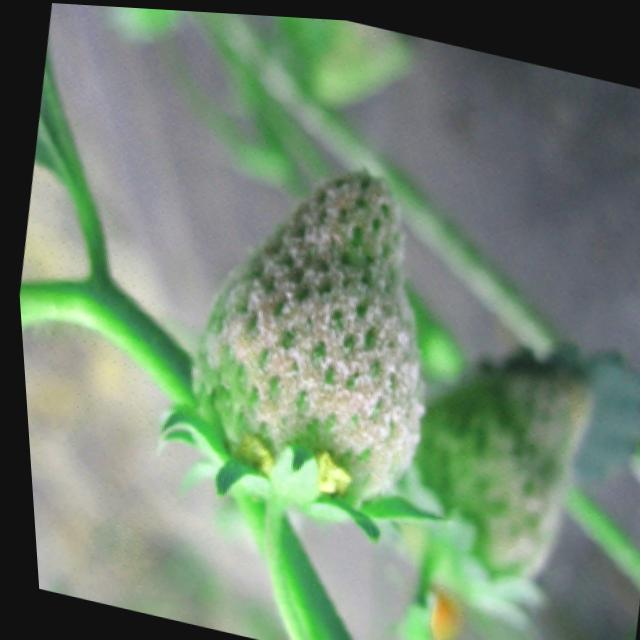Powdery Mildew Fruit: (182, 164, 421, 515), (385, 356, 593, 594)
